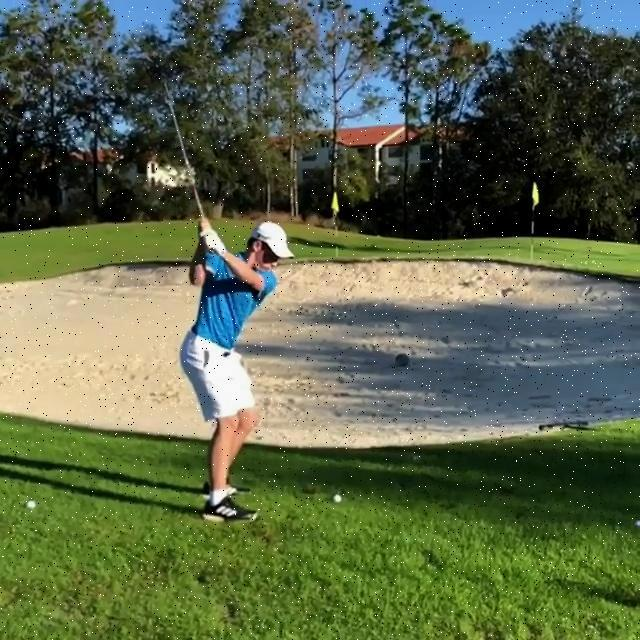golf ball: (26, 501, 36, 510), (333, 494, 342, 503)
golf club-handle: (168, 98, 204, 220)
